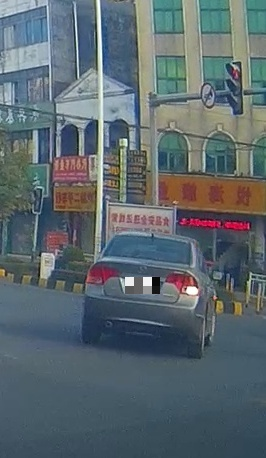L_light: (85, 262, 121, 286)
R_light: (166, 271, 199, 296)
T_light: (143, 236, 159, 244)
day-right: (82, 230, 205, 360)
plate_1: (125, 277, 160, 294)
